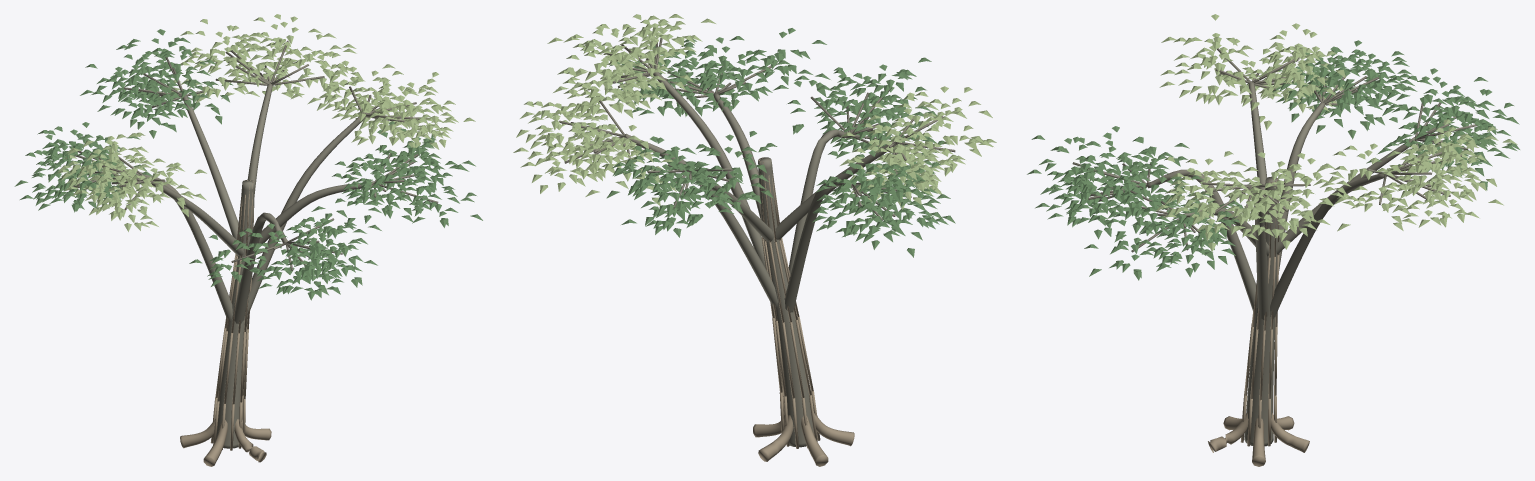
The model's file is dongpo-waterside-tree-2.glb.
3 renders of one model, left to right at view 1: azimuth 30°, elevation 25°; view 2: azimuth 150°, elevation 25°; view 3: azimuth 270°, elevation 25°, orthographic. The views are drawn at different scales.
Visible parts, largest first — view 1: dongpo-waterside-tree-2; view 2: dongpo-waterside-tree-2; view 3: dongpo-waterside-tree-2.
Boxes of the visible parts, box(x1,y1,x2,y2) form: dongpo-waterside-tree-2: box(14, 14, 482, 466); dongpo-waterside-tree-2: box(513, 14, 996, 466); dongpo-waterside-tree-2: box(1027, 14, 1519, 466).
Size of the model in its own units: 7.34 by 6.01 by 7.34.
